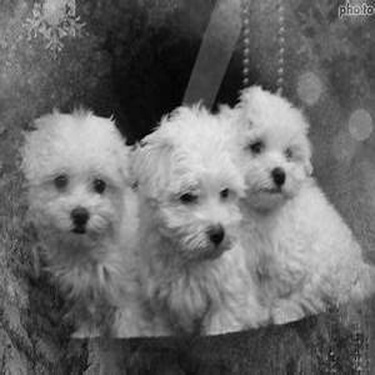dog: (103, 84, 268, 362), (201, 72, 372, 332), (10, 113, 162, 341)
